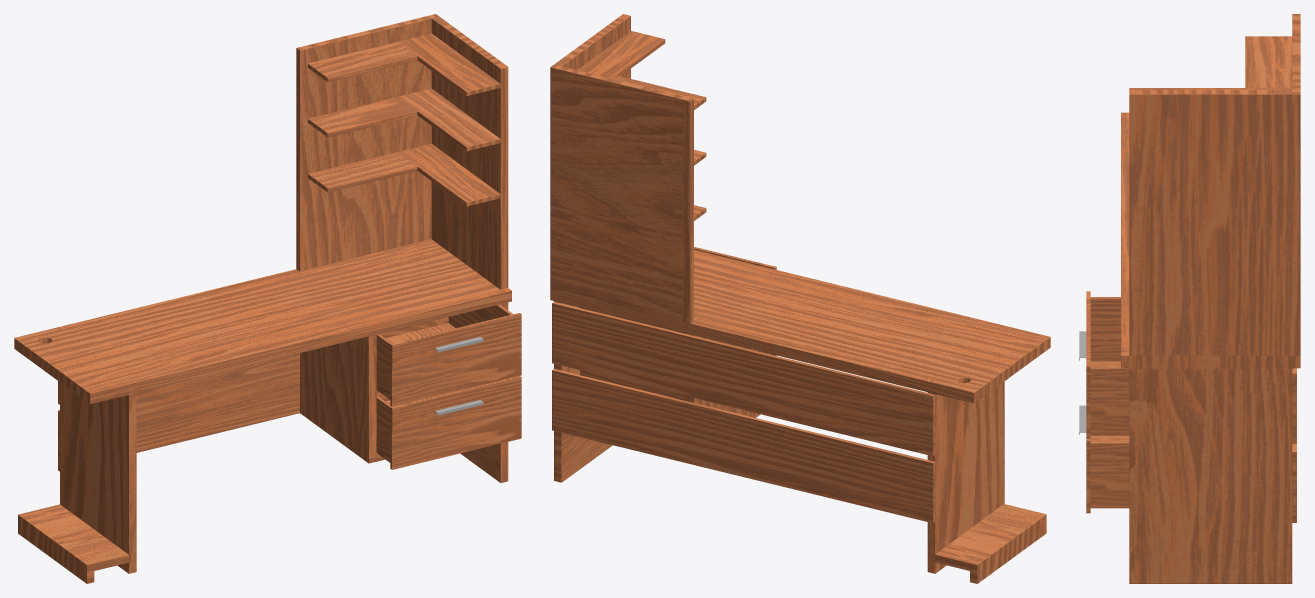
Rendered from PC table 002.fbx.
3 views of the same model, side by side, from view 1: azimuth 30°, elevation 25°; view 2: azimuth 150°, elevation 25°; view 3: azimuth 270°, elevation 25° (orthographic). The views are drawn at different scales.
Visible parts, largest first — view 1: Plane, Plane.003, Plane.001; view 2: Plane; view 3: Plane, Plane.003, Plane.001.
Part boxes in pixels (x1,y1,x2,y2): Plane: (14,14,511,583); Plane.003: (376,304,521,406); Plane.001: (376,376,521,469); Plane: (550,14,1050,583); Plane: (1121,14,1300,583); Plane.003: (1079,291,1129,438); Plane.001: (1079,405,1129,513).
Bounding box in the file's own units: 160 × 150 × 61.56.
